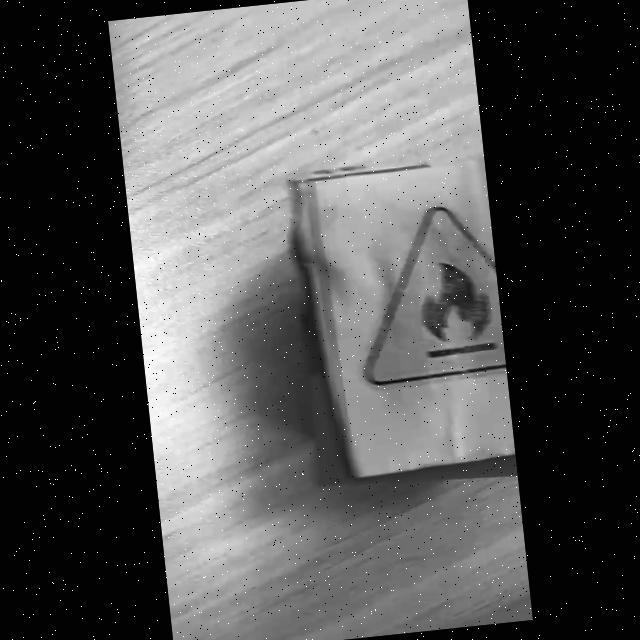Fire: (364, 206, 505, 385)
